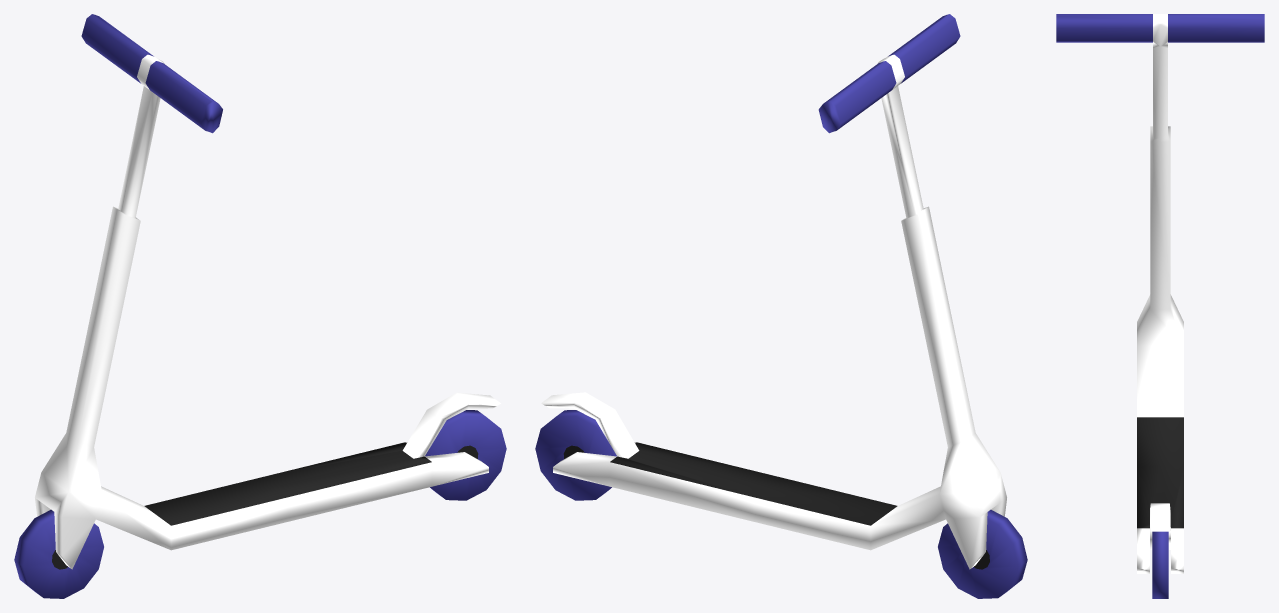
File: ScooterBlue.glb
3 renders of one model, left to right at view 1: azimuth 30°, elevation 25°; view 2: azimuth 150°, elevation 25°; view 3: azimuth 270°, elevation 25°, orthographic. The views are drawn at different scales.
Parts seen in each view (by area): view 1: ScooterBlue; view 2: ScooterBlue; view 3: ScooterBlue.
Boxes of the visible parts, x1,y1,x2,y2 form: ScooterBlue: [14, 14, 506, 598]; ScooterBlue: [535, 14, 1027, 598]; ScooterBlue: [1056, 14, 1264, 598].
Size of the model in its own units: 1.03 by 1.05 by 0.4408.
1 material, 1 textured.
